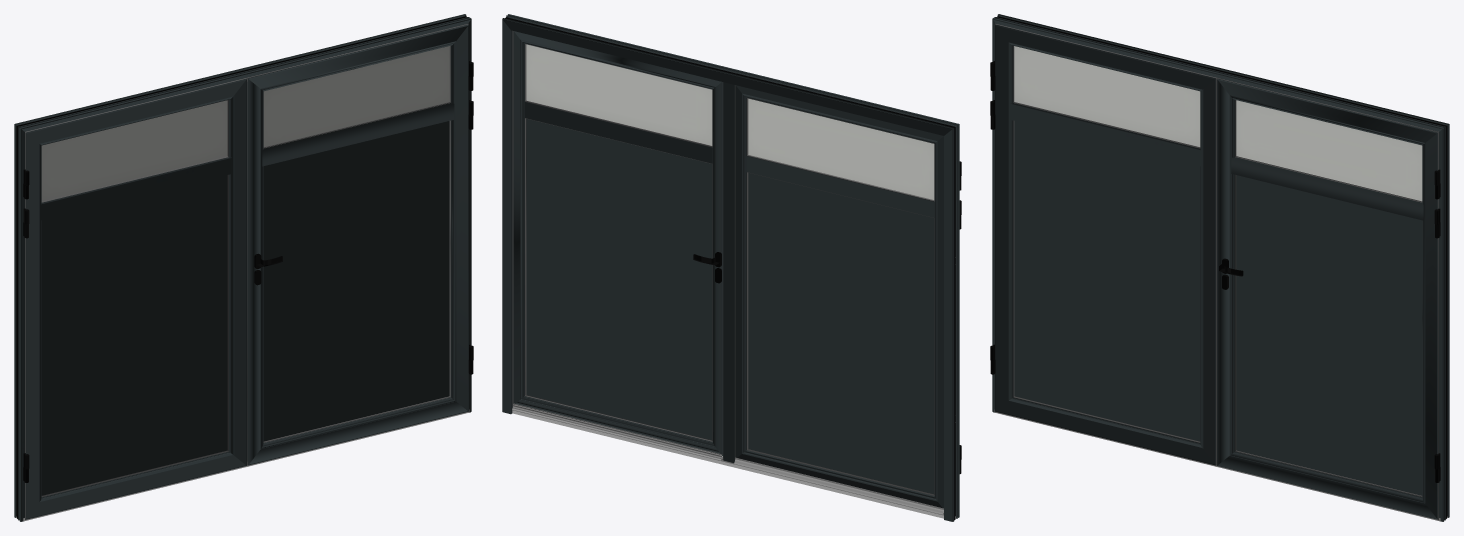
File: 12231_avechublot.fbx
The picture shows the model from 3 angles, left to right: view 1: azimuth 30°, elevation 25°; view 2: azimuth 150°, elevation 25°; view 3: azimuth 330°, elevation 25°; orthographic projection.
Visible parts, largest first — view 1: ouvrant22, ouvrant11, onduline2; view 2: ouvrant22, ouvrant11, onduline2; view 3: ouvrant22, ouvrant11, onduline2.
Boxes of the visible parts, x1=… form: ouvrant22: x1=23, y1=78, x2=247, y2=519; ouvrant11: x1=246, y1=23, x2=473, y2=465; onduline2: x1=14, y1=14, x2=473, y2=521; ouvrant22: x1=723, y1=82, x2=961, y2=514; ouvrant11: x1=512, y1=31, x2=723, y2=460; onduline2: x1=502, y1=14, x2=961, y2=521; ouvrant22: x1=990, y1=23, x2=1217, y2=465; ouvrant11: x1=1217, y1=78, x2=1440, y2=519; onduline2: x1=990, y1=14, x2=1449, y2=521.
Size of the model in its own units: 240 by 200 by 16.63.
1 material, 1 textured.
